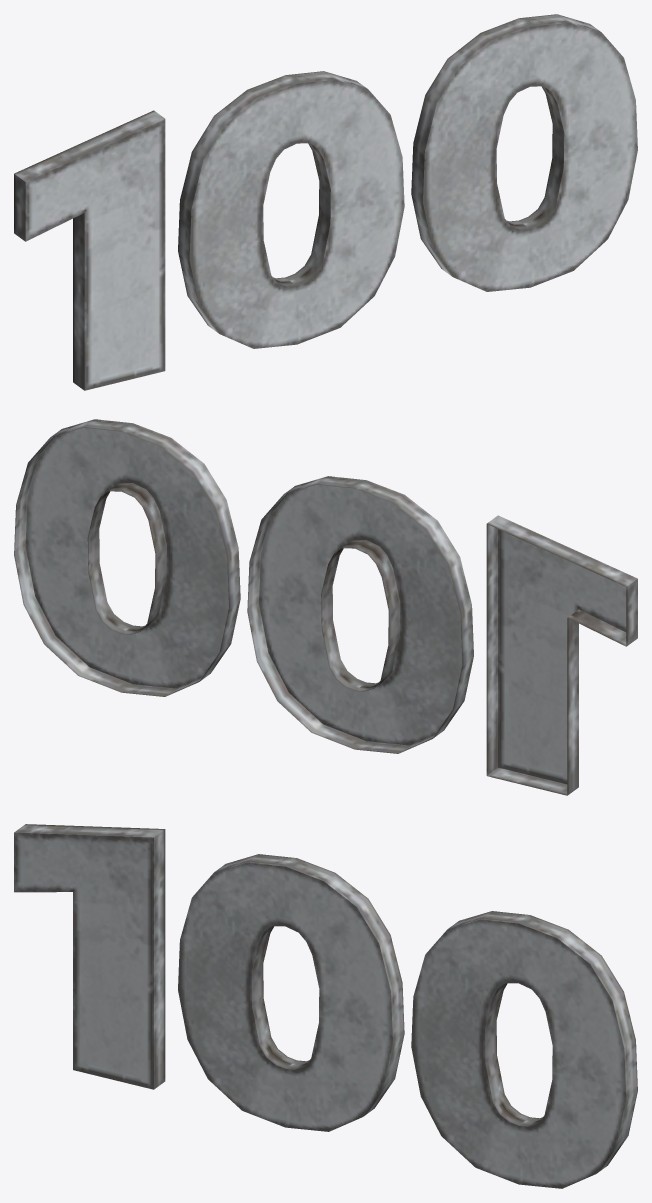
Rendered from categorySign100.FBX.
3 views of the same model, one above another, from view 1: azimuth 30°, elevation 25°; view 2: azimuth 150°, elevation 25°; view 3: azimuth 330°, elevation 25° (orthographic).
Parts seen in each view (by area): view 1: SM_CategorySign100; view 2: SM_CategorySign100; view 3: SM_CategorySign100.
Boxes of the visible parts, box(x1,y1,x2,y2) form: SM_CategorySign100: box(14, 14, 637, 390); SM_CategorySign100: box(14, 419, 637, 795); SM_CategorySign100: box(14, 824, 637, 1188).
Size of the model in its own units: 6.1 by 2.48 by 0.2.
Materials: 1 (1 with a texture image).
